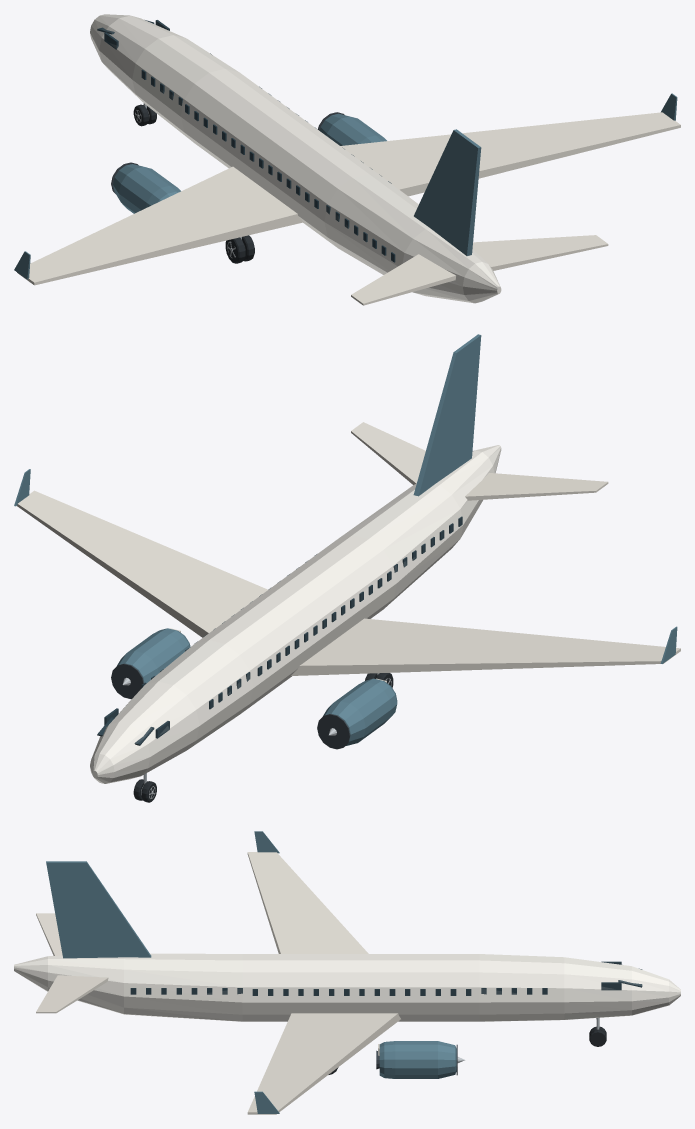
File: AIR_01.obj
3 views of the same model, one above another, from view 1: azimuth 30°, elevation 25°; view 2: azimuth 150°, elevation 25°; view 3: azimuth 270°, elevation 25° (orthographic). The views are drawn at different scales.
Visible parts, largest first — view 1: fuselage, wings, stabilizers, tail_fin, engine_L, engine_R, windows, gear_main_L, winglets; view 2: fuselage, wings, tail_fin, stabilizers, engine_L, engine_R, windows, engine_L_fan, engine_R_fan; view 3: fuselage, wings, tail_fin, engine_R, stabilizers, windows, winglets.
Part boxes in pixels (x1,y1,x2,y2): fuselage: [90, 14, 501, 303]; wings: [17, 112, 680, 285]; stabilizers: [351, 235, 608, 305]; tail_fin: [414, 129, 481, 255]; engine_L: [113, 164, 180, 213]; engine_R: [320, 113, 386, 145]; windows: [141, 53, 395, 262]; gear_main_L: [225, 235, 254, 263]; winglets: [14, 93, 677, 279]; fuselage: [90, 445, 501, 783]; wings: [17, 490, 680, 675]; tail_fin: [413, 334, 481, 496]; stabilizers: [351, 422, 608, 500]; engine_L: [323, 678, 397, 745]; engine_R: [117, 628, 190, 683]; windows: [141, 516, 462, 709]; engine_L_fan: [317, 714, 350, 749]; engine_R_fan: [111, 663, 143, 698]; fuselage: [14, 953, 680, 1021]; wings: [247, 852, 400, 1114]; tail_fin: [46, 861, 151, 958]; engine_R: [376, 1041, 456, 1078]; stabilizers: [36, 913, 108, 1013]; windows: [130, 988, 547, 995]; winglets: [254, 831, 279, 1113].
Size of the model in its own units: 36.5 by 11.9 by 39.4.
